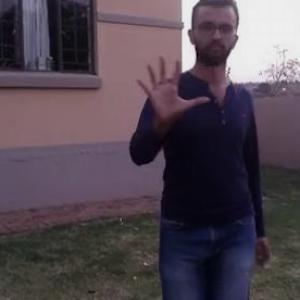follow_hand: (130, 51, 213, 124)
